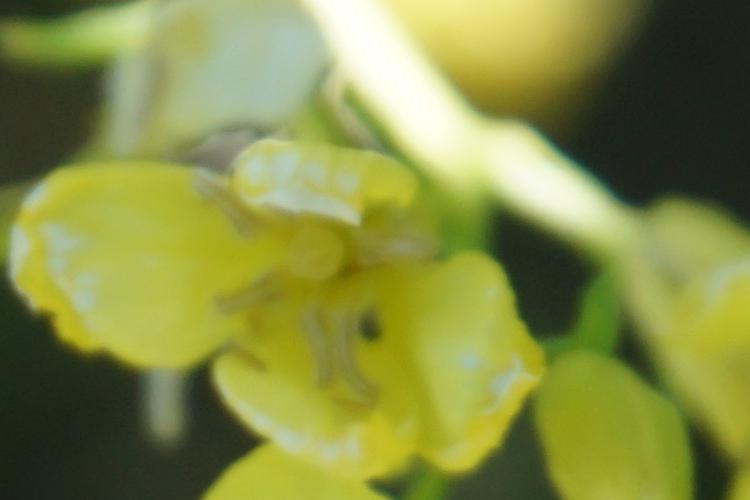yellow: (23, 127, 560, 500), (527, 168, 750, 497)
